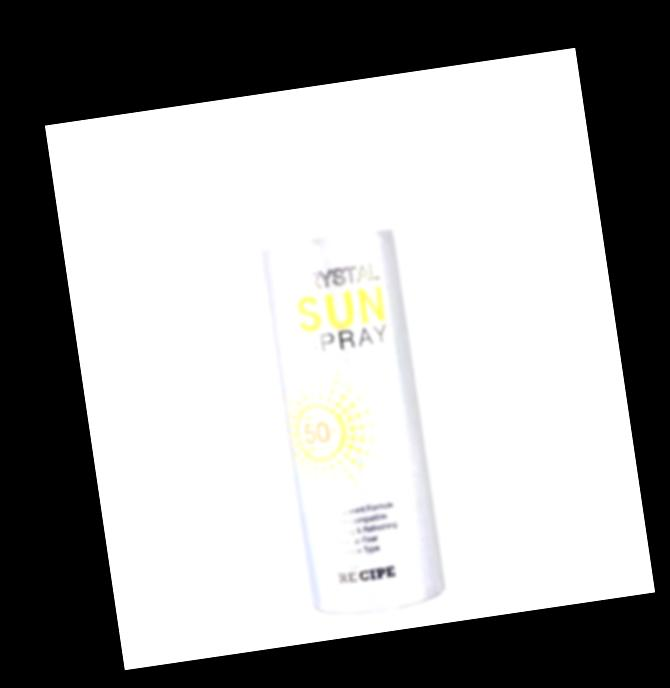cosmetic: (243, 102, 452, 619)
